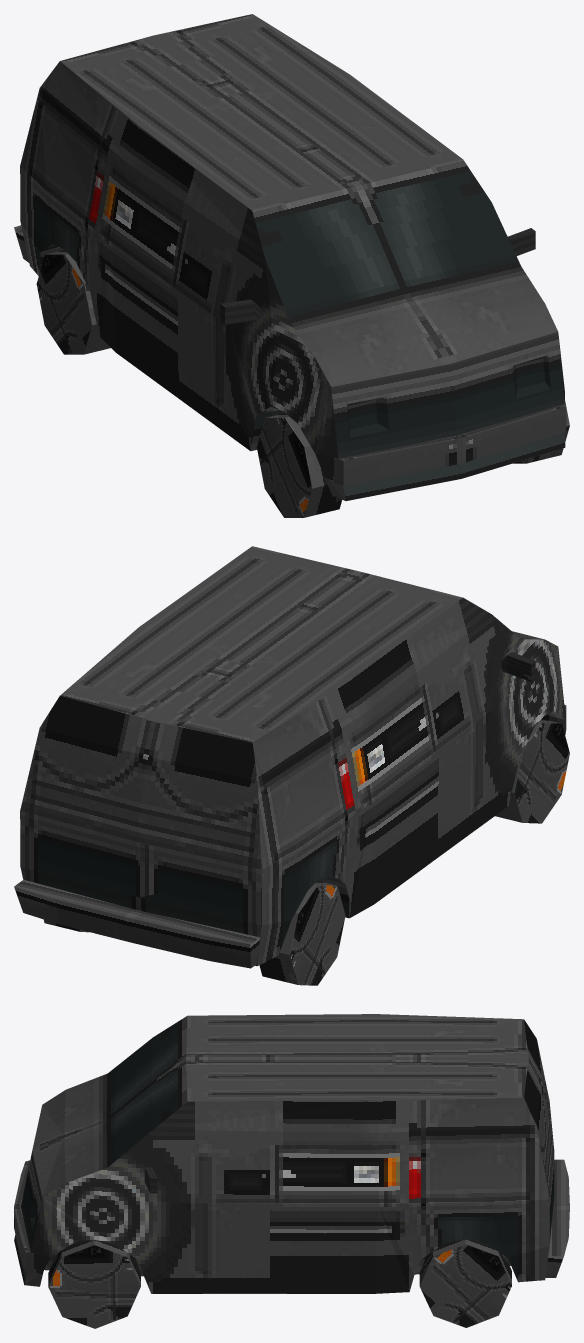
Rendered from car04_grey.glb.
3 views of the same model, one above another, from view 1: azimuth 30°, elevation 25°; view 2: azimuth 150°, elevation 25°; view 3: azimuth 270°, elevation 25° (orthographic). The views are drawn at different scales.
Parts seen in each view (by area): view 1: car04_grey; view 2: car04_grey; view 3: car04_grey.
Boxes of the visible parts, x1=… form: car04_grey: x1=14, y1=14, x2=569, y2=517; car04_grey: x1=14, y1=546, x2=569, y2=985; car04_grey: x1=14, y1=1014, x2=569, y2=1328.
Bounding box in the file's own units: 3.4 × 2.74 × 6.3.
1 material, 1 textured.
